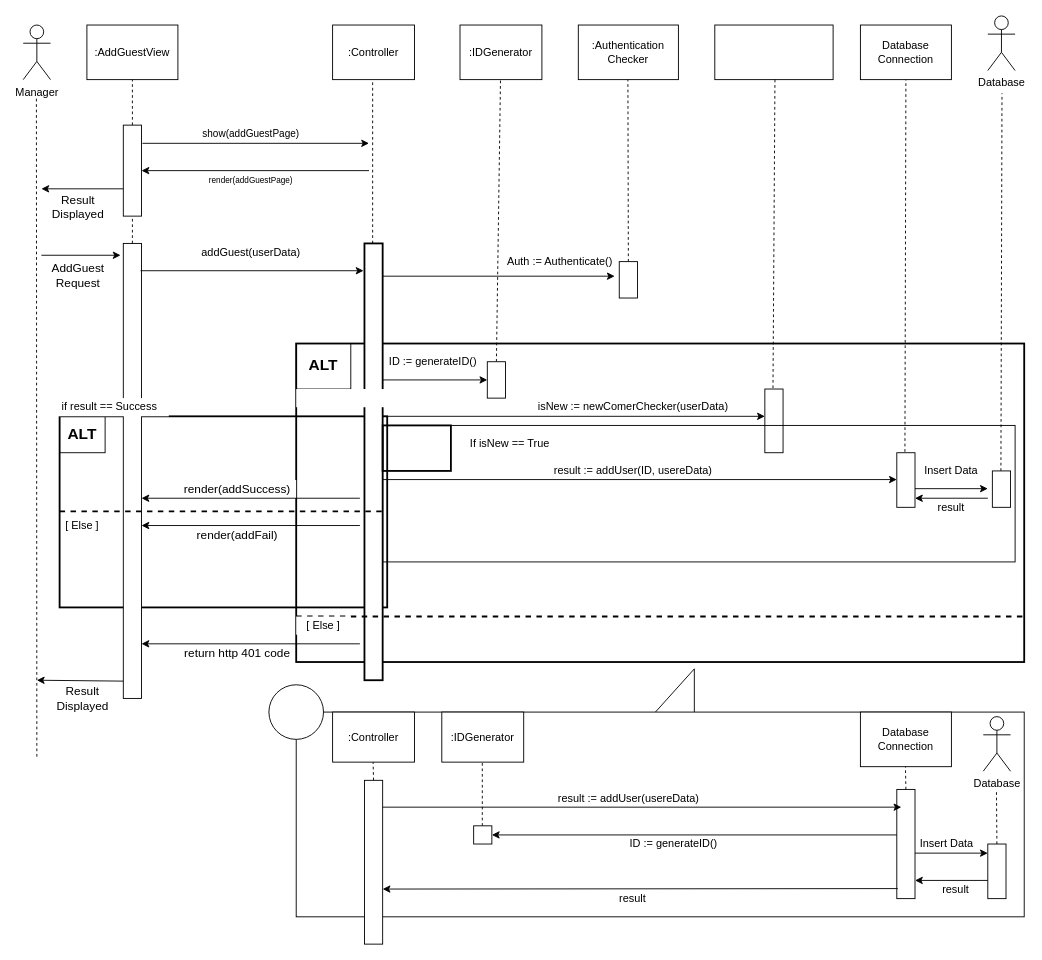
Some shapes in this 1042 by 960 pixel diagram are drawn without their labels. Here are the shapes that lost their labels. From the top down, the box of each, then its label:
(714, 24, 833, 80): :newComerChecker
(296, 389, 387, 407): if Auth == True
(381, 424, 451, 471): OPT
(268, 684, 324, 739): V1
